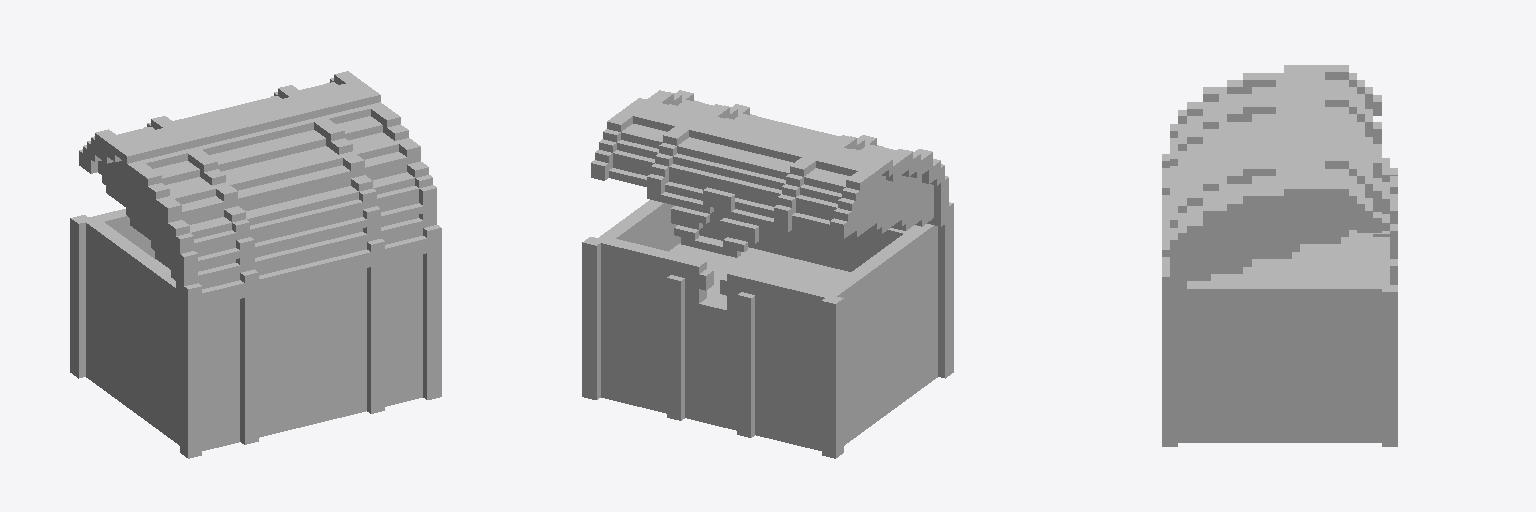
The model's file is chest_anim.obj.
3 renders of one model, left to right at view 1: azimuth 30°, elevation 25°; view 2: azimuth 150°, elevation 25°; view 3: azimuth 270°, elevation 25°, orthographic.
Parts seen in each view (by area): view 1: object 1; view 2: object 1; view 3: object 1.
Part boxes in pixels (x1,y1,x2,y2): object 1: (70, 71, 441, 458); object 1: (582, 90, 953, 458); object 1: (1162, 65, 1397, 446).
Size of the model in its own units: 3.6 by 3.5 by 2.9.